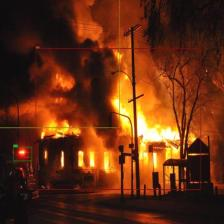fire: (36, 48, 201, 190)
smoke: (0, 0, 119, 127)
